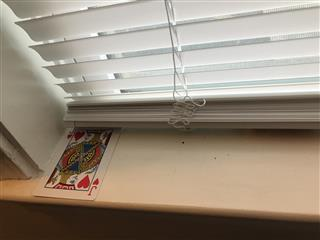JackOfHearts: (32, 127, 121, 200)
